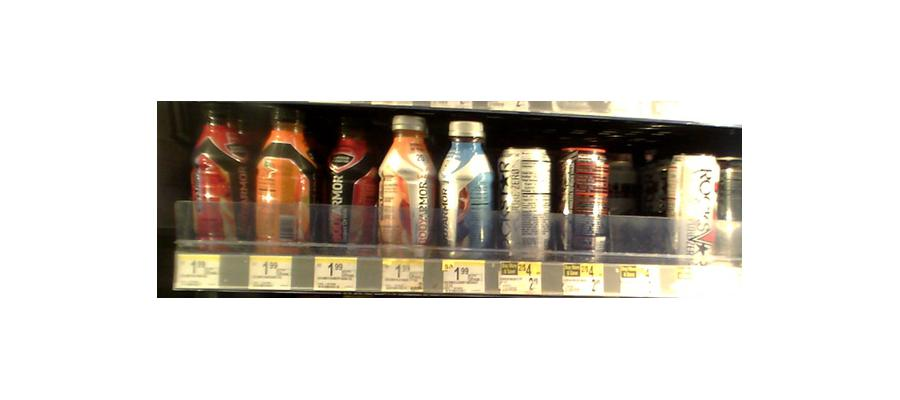bottle: (190, 101, 250, 246), (254, 105, 315, 246), (375, 110, 433, 255), (437, 118, 493, 258), (323, 119, 374, 250), (501, 147, 554, 262), (559, 142, 610, 260), (670, 153, 714, 261)
